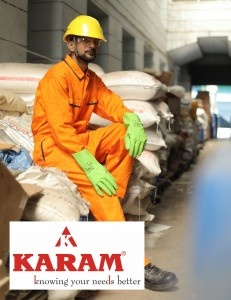yellow: (64, 14, 105, 62)
